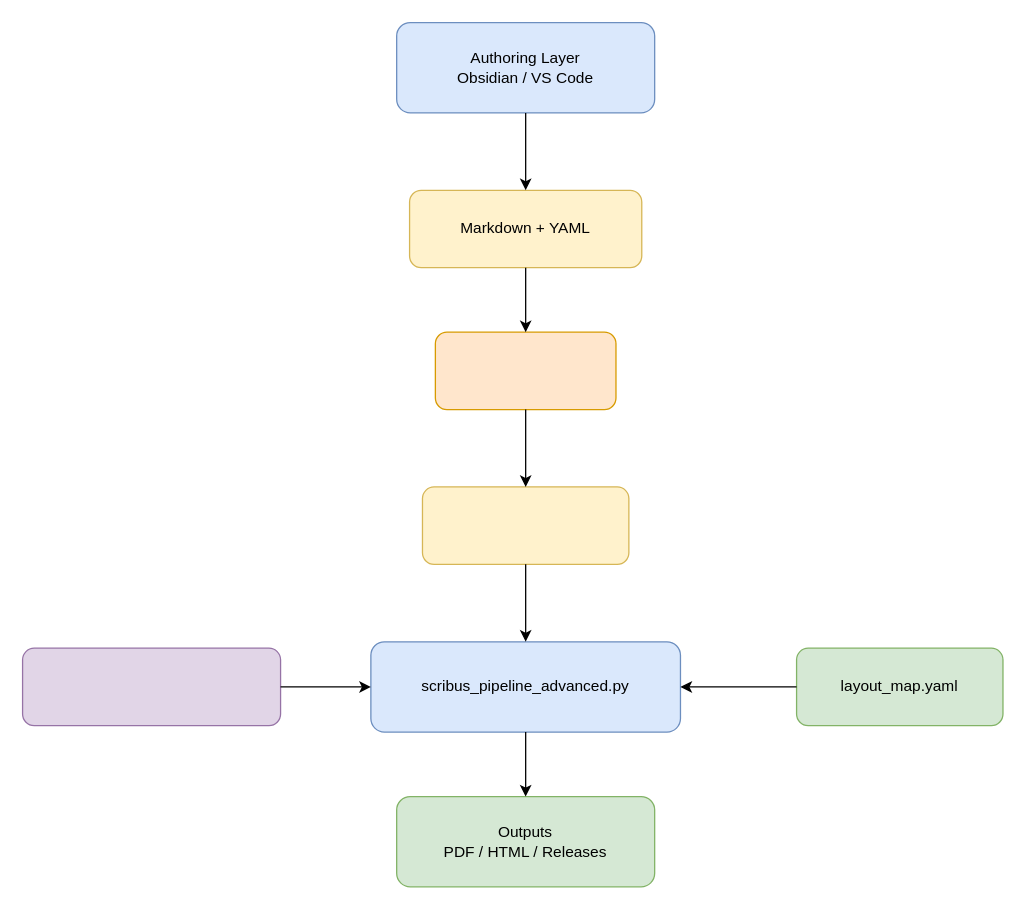
This 1026x909 diagram has some shape labels left out. The centre of each missing label's shape, as x and y in pixels:
DocBook XML: the point at 525,525
Pandoc CLI: the point at 525,370
Scribus Template (.sla): the point at 151,686
